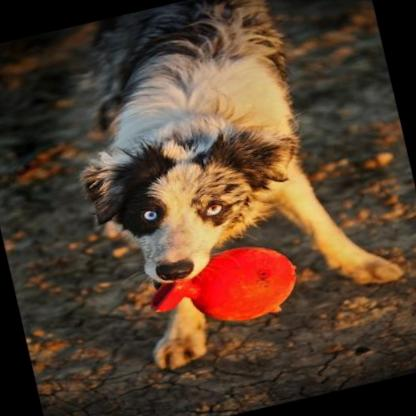collie: (44, 0, 409, 384)
